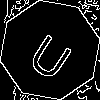U: (25, 25, 80, 83)
